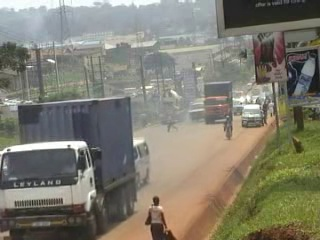Motorcycle: (221, 113, 235, 143)
